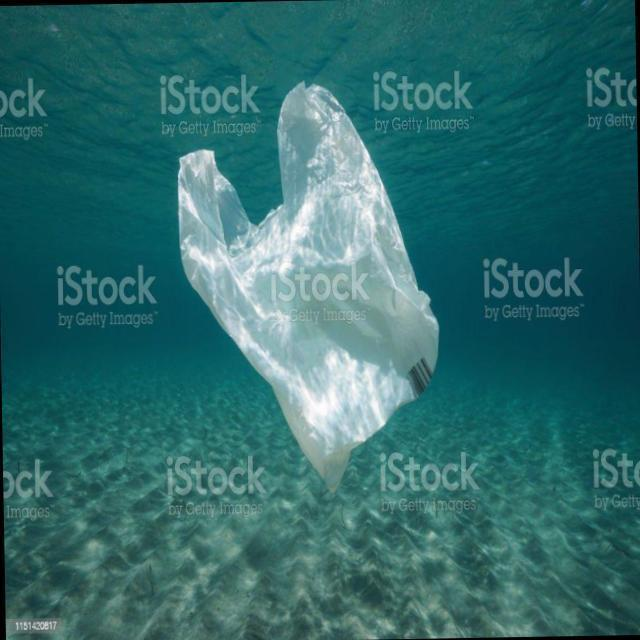Plastic_Bag: (174, 75, 438, 482)
